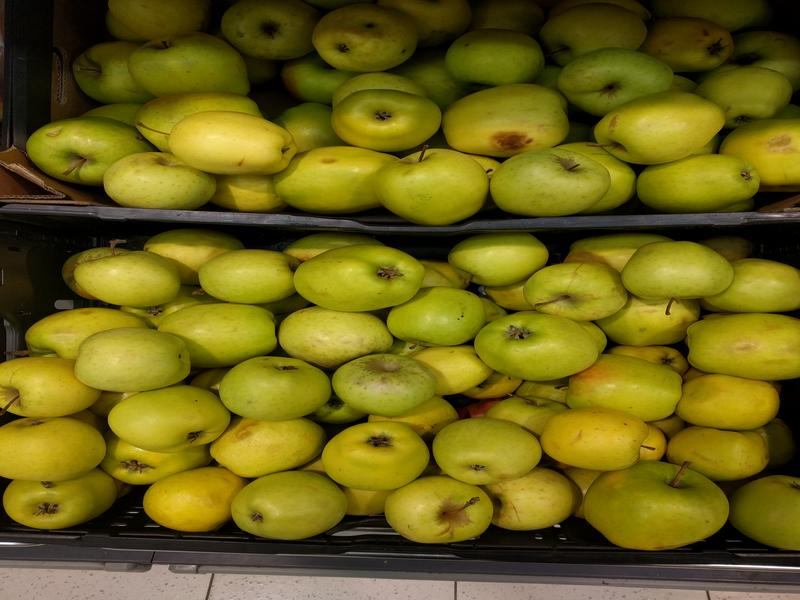apple: (580, 455, 731, 557), (296, 239, 429, 314), (476, 306, 604, 380)
